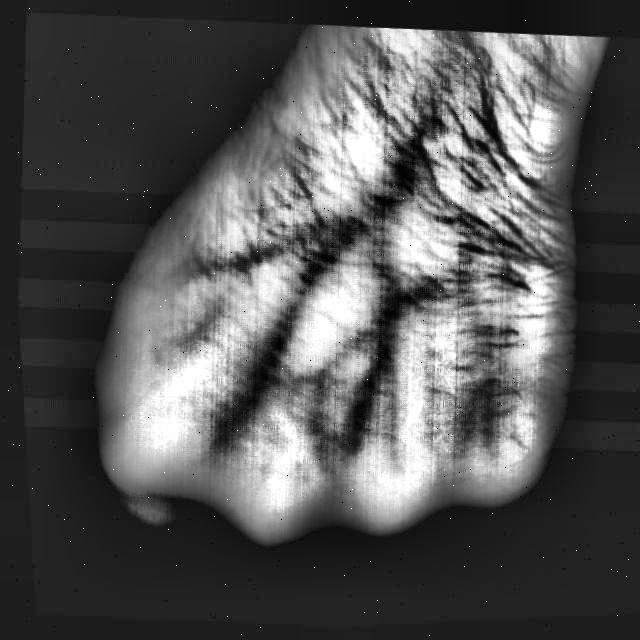Vein: (288, 111, 447, 310)
